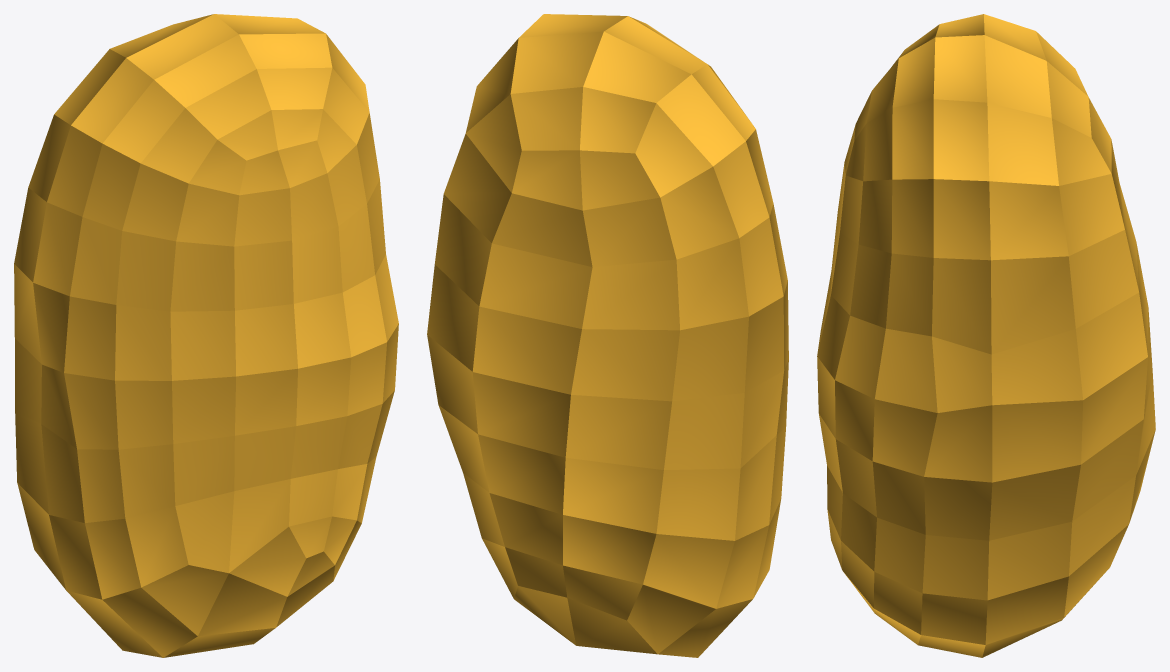
The model's file is MeshPotatoB8_0.obj.
The picture shows the model from 3 angles, left to right: view 1: azimuth 30°, elevation 25°; view 2: azimuth 150°, elevation 25°; view 3: azimuth 270°, elevation 25°; orthographic projection.
Visible parts, largest first — view 1: PotatoB8; view 2: PotatoB8; view 3: PotatoB8.
Part boxes in pixels (bbox=[...]): PotatoB8: bbox=[14, 14, 398, 657]; PotatoB8: bbox=[427, 14, 788, 657]; PotatoB8: bbox=[817, 14, 1155, 657].
Size of the model in its own units: 0.0775 by 0.1375 by 0.0679.
